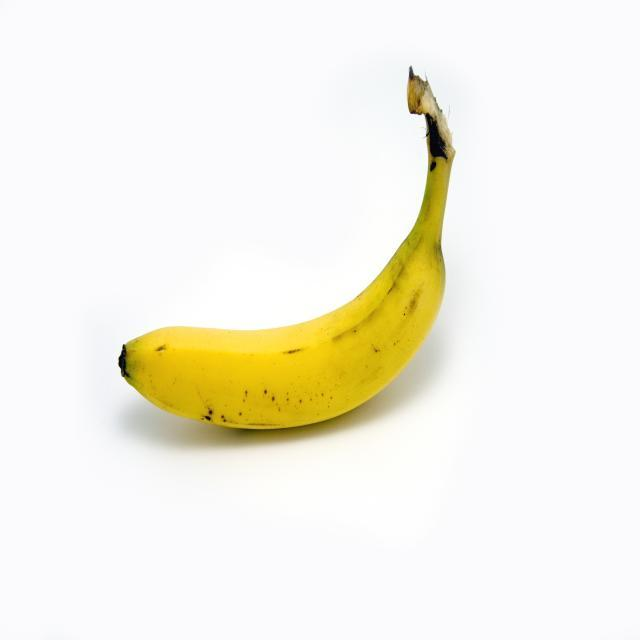Banana: (117, 146, 458, 428)
